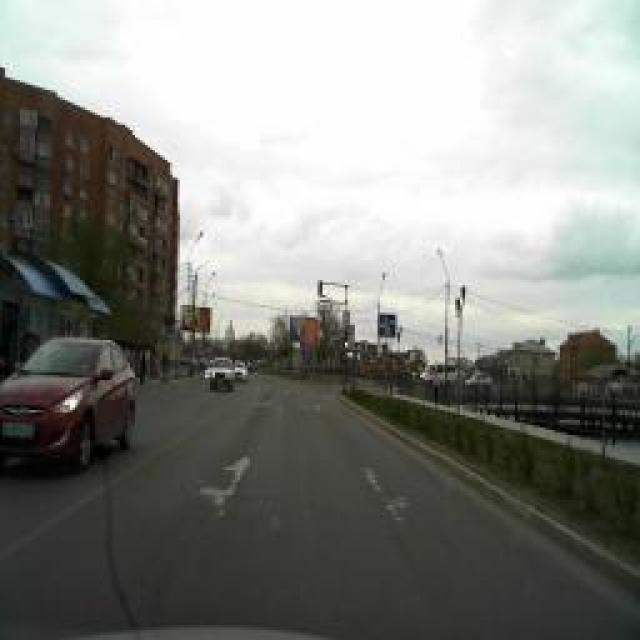sign: (378, 312, 398, 338), (165, 326, 175, 342), (342, 310, 350, 322)
